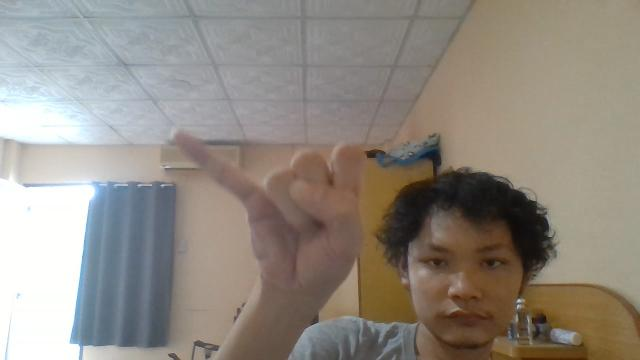Right: (173, 125, 373, 289)
